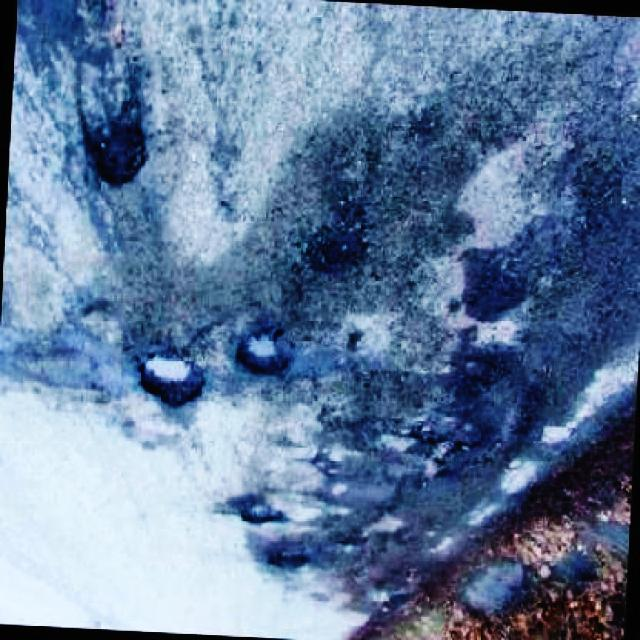pothole: (457, 350, 552, 436), (303, 200, 380, 275), (458, 246, 532, 320), (403, 409, 488, 471), (88, 119, 152, 184), (137, 348, 208, 406), (237, 323, 292, 377), (239, 498, 286, 528), (271, 544, 309, 578)
